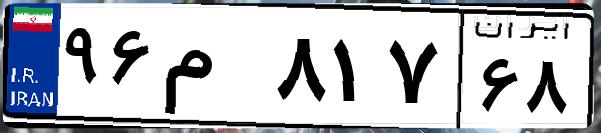1: (330, 28, 385, 110)
6: (475, 38, 525, 113), (110, 28, 158, 98)
7: (385, 28, 445, 110)
8: (270, 28, 330, 110), (525, 38, 570, 115)
9: (57, 26, 110, 100)
م: (158, 20, 270, 120)
